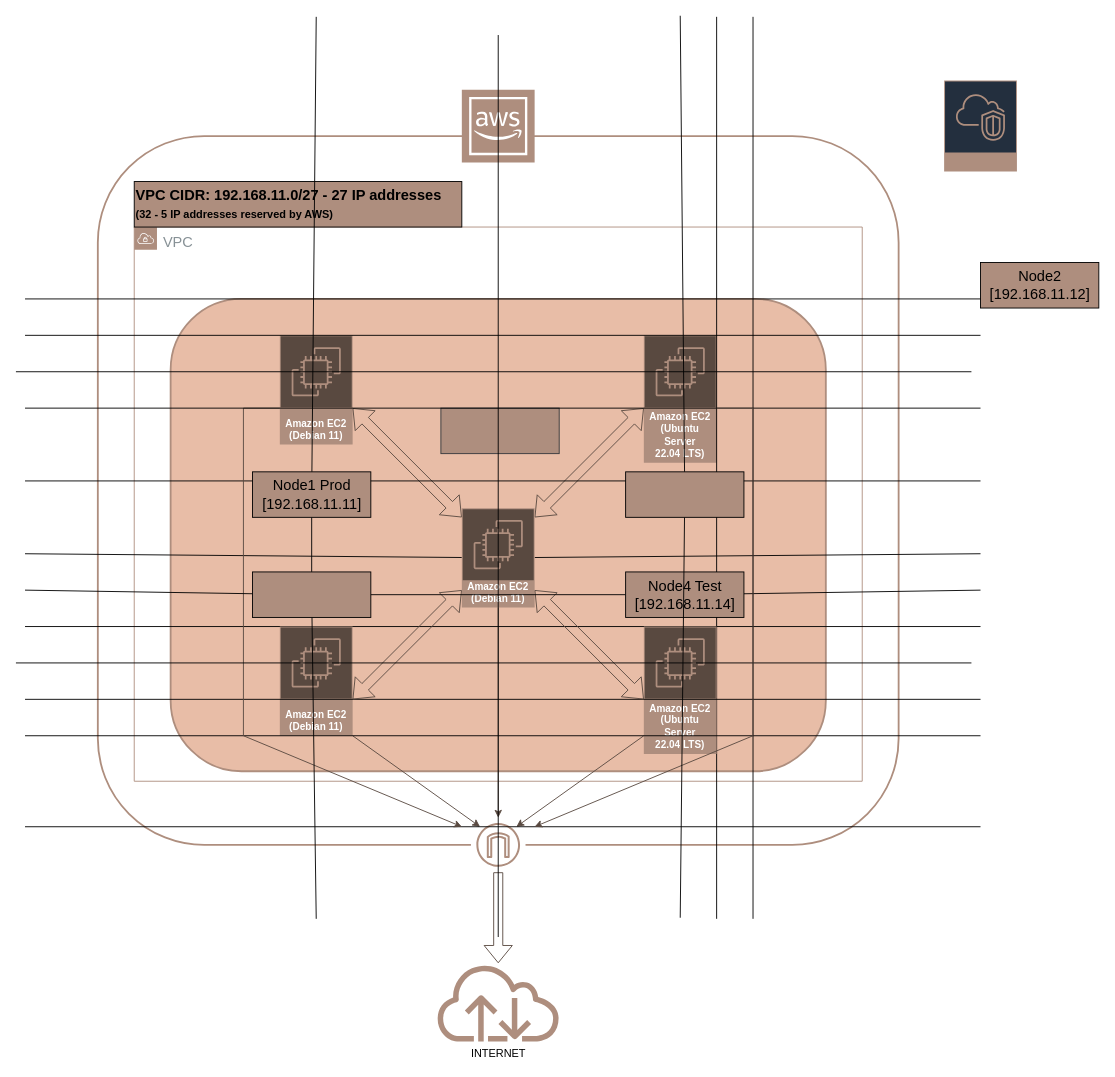
Some shapes in this 1115 by 1077 pixel diagram are drawn without their labels. Here are the shapes that lost their labels. From the top down, the centre of each, then its label:
At pixel 498 125: "AWS Cloud".
At pixel 980 126: "Amazon VPC".
At pixel 499 430: "Main Server [192.168.11.10]".
At pixel 684 494: "Node2 Prod [192.168.11.12]".
At pixel 311 594: "Node3 Test [192.168.11.13]".
At pixel 498 844: "Internet gateway".
